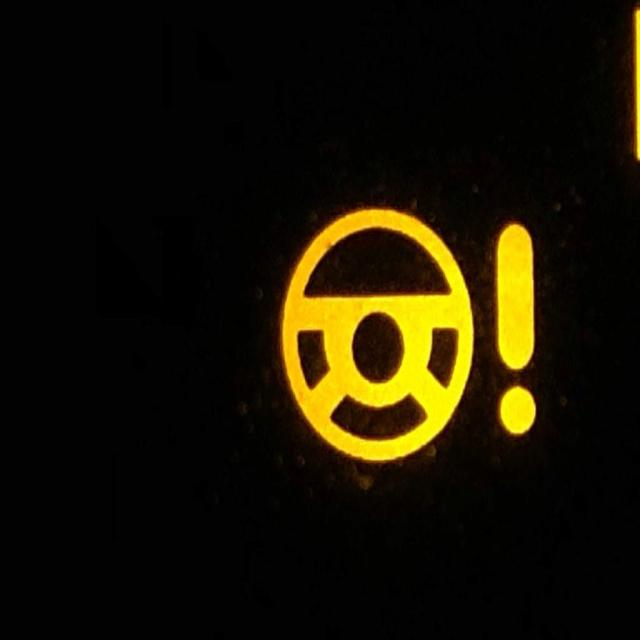kontrolka: (261, 190, 568, 479)
